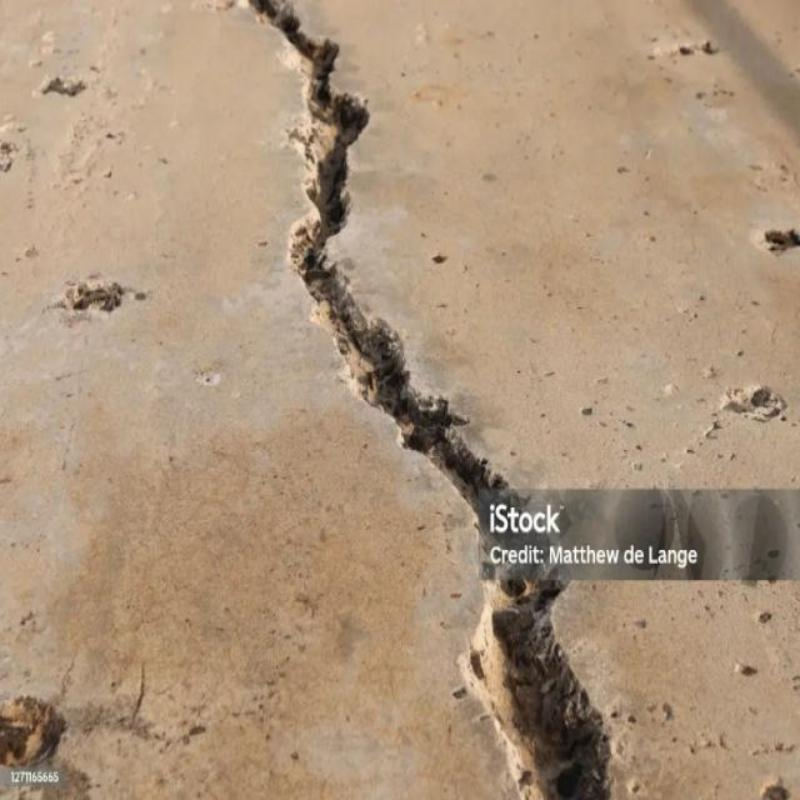pothole: (249, 0, 610, 799)
